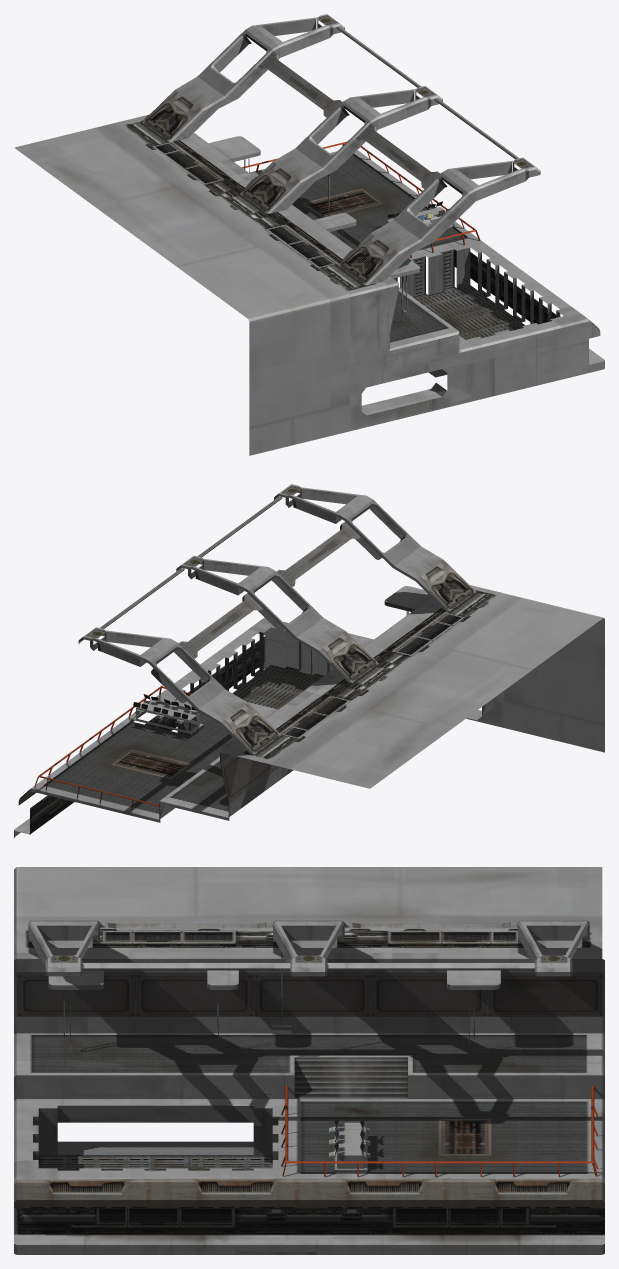
3 views of the same model, one above another, from view 1: azimuth 30°, elevation 25°; view 2: azimuth 150°, elevation 25°; view 3: azimuth 270°, elevation 25° (orthographic). The views are drawn at different scales.
Parts seen in each view (by area): view 1: ML2_Base; view 2: ML2_Base; view 3: ML2_Base.
Part boxes in pixels (x1,y1,x2,y2): ML2_Base: (14,14,604,455); ML2_Base: (14,484,604,838); ML2_Base: (14,867,604,1254).
Bounding box in the file's own units: 13.94 × 7.68 × 16.
Materials: 1 (1 with a texture image).
